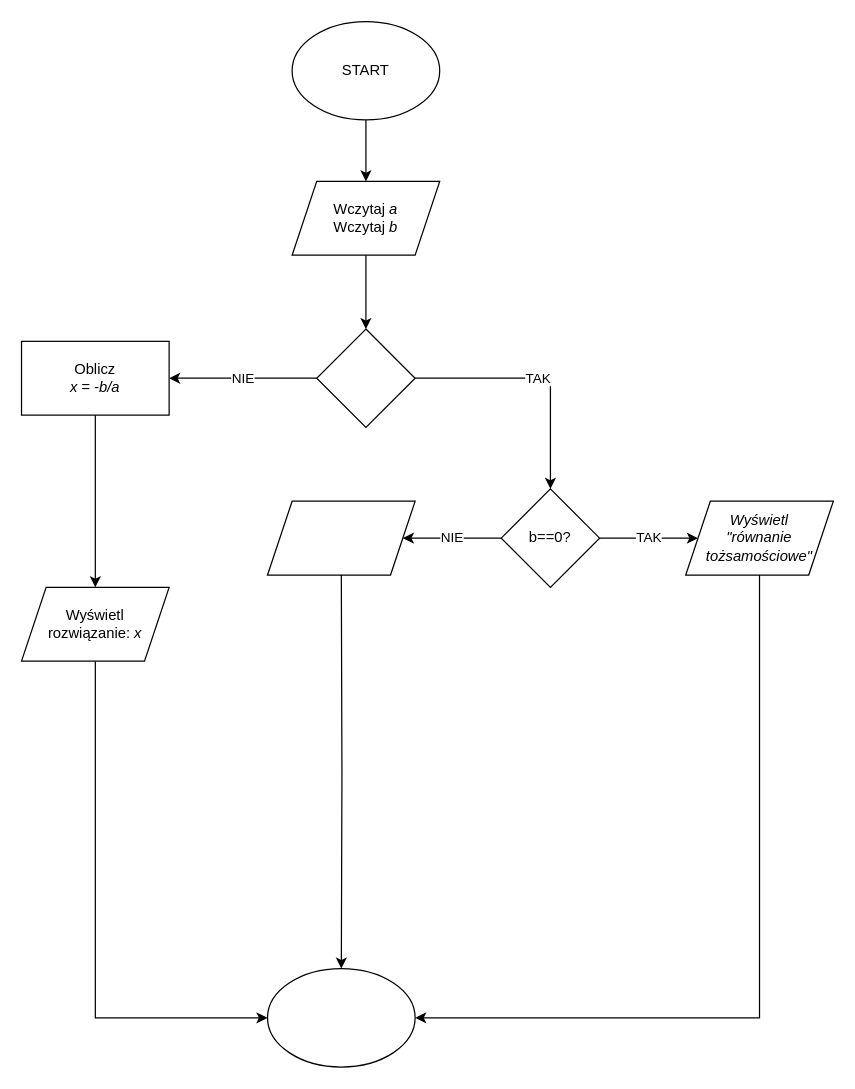
This 855x1089 diagram has some shape labels left out. The centre of each missing label's shape, as x and y in pixels:
a==0?: [365,377]
KONIEC: [340,1017]
Wyświetl "brak rozwiązań": [340,537]
